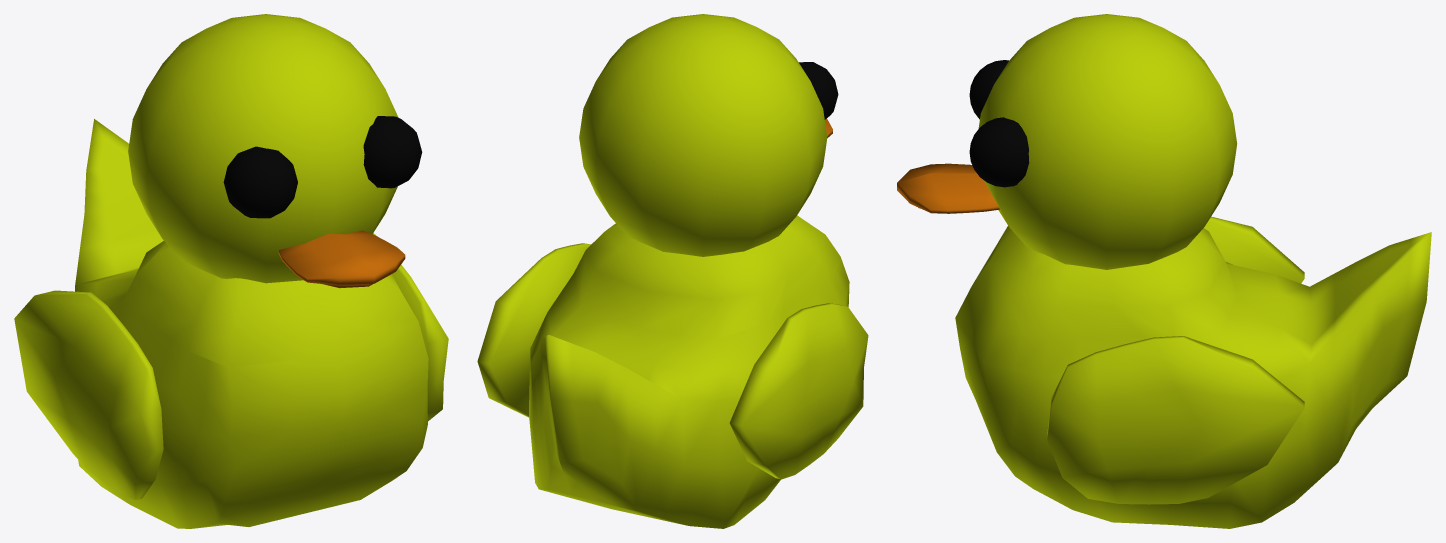
The model's file is ducky.glb.
3 views of the same model, side by side, from view 1: azimuth 30°, elevation 25°; view 2: azimuth 150°, elevation 25°; view 3: azimuth 270°, elevation 25° (orthographic). The views are drawn at different scales.
Visible parts, largest first — view 1: Cube.002; view 2: Cube.002; view 3: Cube.002.
Part boxes in pixels (box(x1,y1,x2,y2)): Cube.002: box(14, 14, 448, 528); Cube.002: box(477, 14, 868, 528); Cube.002: box(897, 14, 1431, 528).
Size of the model in its own units: 0.1717 by 0.25 by 0.2599.
